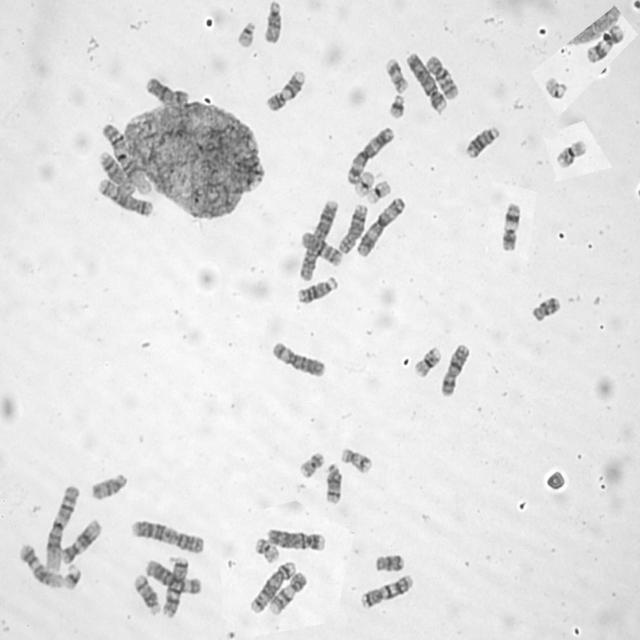A1: (100, 122, 152, 196), (43, 482, 80, 573)
A2: (297, 197, 340, 282), (130, 516, 207, 554)
A3: (354, 193, 406, 259), (344, 124, 395, 185)
B4: (404, 49, 448, 114), (264, 525, 326, 552)
B5: (248, 558, 297, 616), (96, 175, 154, 218)
C10: (424, 52, 460, 101), (299, 228, 343, 268)
C11: (584, 22, 624, 64), (499, 200, 522, 253)
C12: (17, 540, 63, 589), (59, 516, 103, 564)
C6: (268, 338, 328, 379), (144, 557, 203, 595)
C7: (358, 572, 415, 609), (160, 555, 190, 618)
C8: (336, 201, 370, 255), (98, 150, 137, 197)
C9: (264, 67, 307, 112), (267, 569, 308, 616)
D13: (294, 274, 339, 304), (464, 124, 501, 160)
D14: (131, 572, 161, 616), (323, 460, 343, 506)
D15: (89, 469, 129, 502), (261, 0, 283, 45)
E16: (553, 136, 588, 170), (412, 343, 442, 378)
E17: (338, 444, 374, 474), (382, 56, 410, 94)
E18: (529, 293, 562, 323), (373, 551, 405, 573)
F19: (364, 177, 392, 204), (352, 168, 375, 198)
F20: (297, 448, 326, 480), (255, 536, 278, 564)
G21: (62, 562, 82, 590), (387, 92, 406, 119)
G22: (234, 18, 257, 48), (544, 74, 568, 101)
X: (438, 341, 472, 397), (144, 74, 190, 106)
